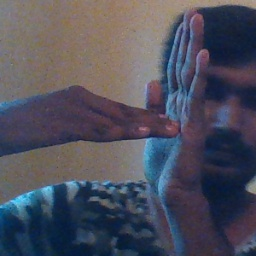Z: (97, 12, 213, 189)
